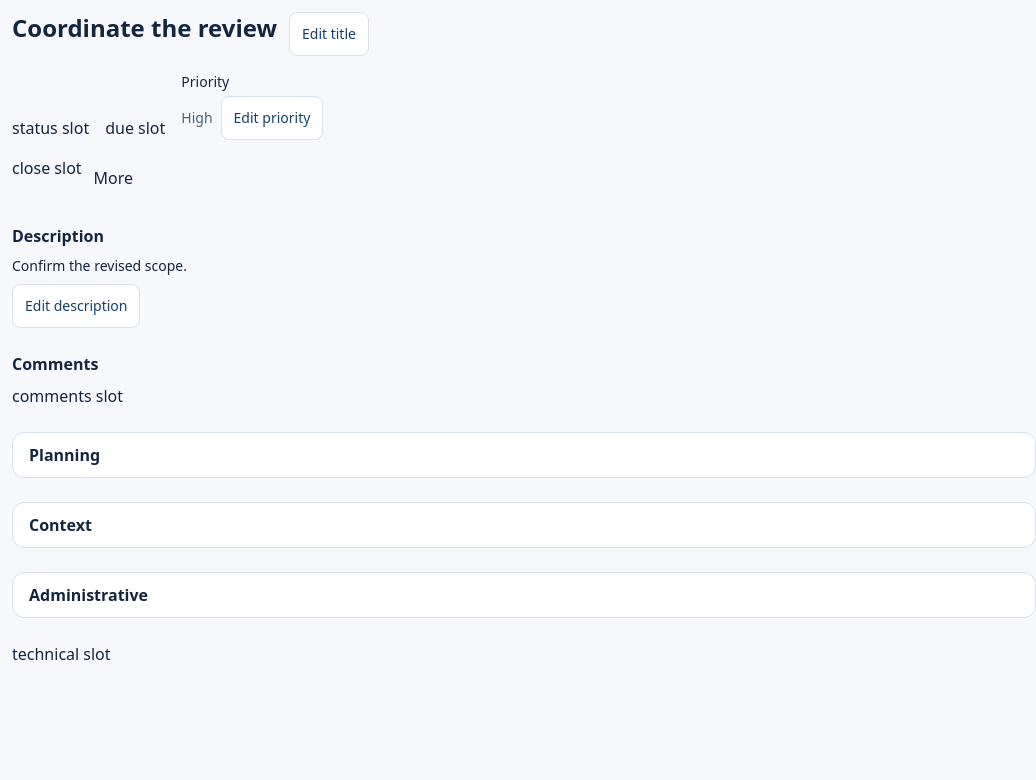
Test: progressive Task detail › states missing Context rather than guessing a name or printing a raw reference
The width and height of the screenshot is (1036, 780).
Click the heading "Context": click(60, 525) [29,514,92,536]
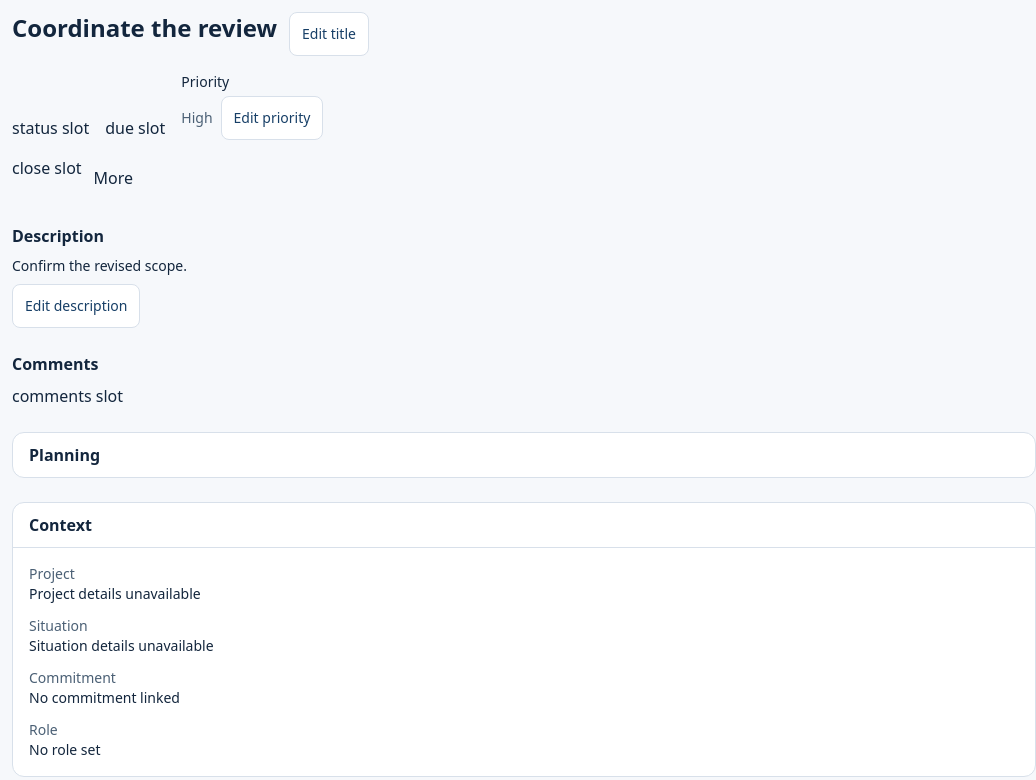
Check: the text "Project details unavailable" is shown, box [29,584,201,603]
Check: the text "Situation details unavailable" is shown, box [29,636,214,655]
